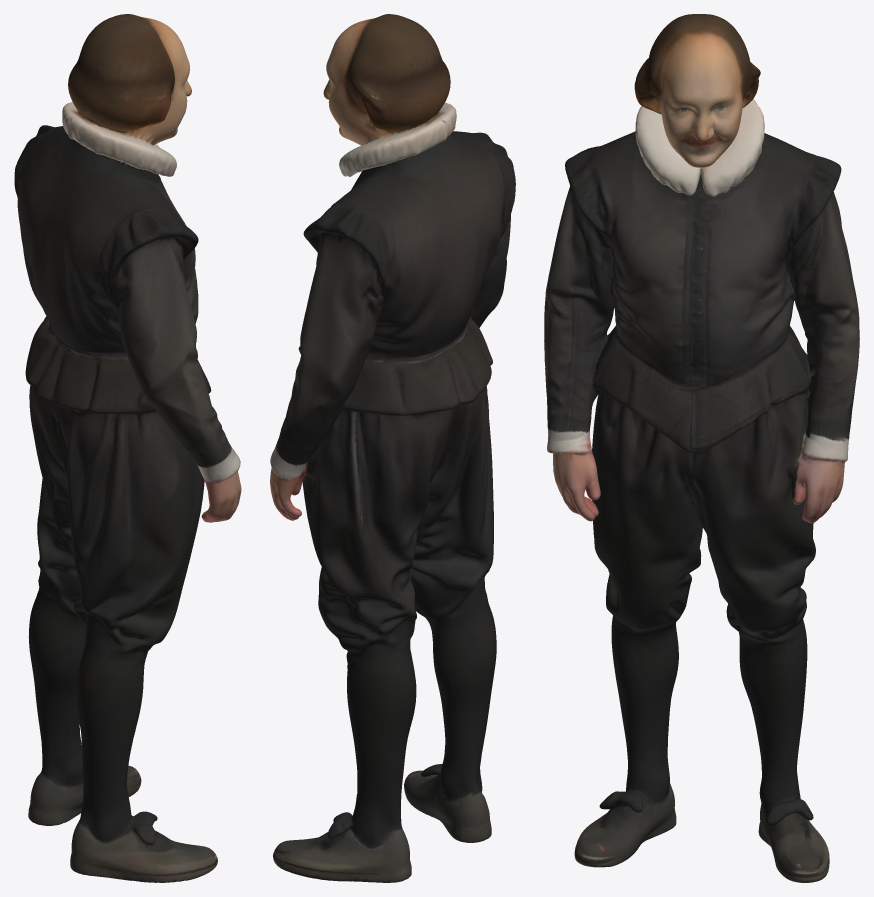
Rendered from shakespeare.glb.
The picture shows the model from 3 angles, left to right: view 1: azimuth 30°, elevation 25°; view 2: azimuth 150°, elevation 25°; view 3: azimuth 270°, elevation 25°; orthographic projection. The views are drawn at different scales.
Visible parts, largest first — view 1: tripo_node_ef2fb289-115d-418f-8ede-324c1dbad393; view 2: tripo_node_ef2fb289-115d-418f-8ede-324c1dbad393; view 3: tripo_node_ef2fb289-115d-418f-8ede-324c1dbad393.
Part boxes in pixels (x1,y1,x2,y2): tripo_node_ef2fb289-115d-418f-8ede-324c1dbad393: (14,14,241,882); tripo_node_ef2fb289-115d-418f-8ede-324c1dbad393: (270,14,515,882); tripo_node_ef2fb289-115d-418f-8ede-324c1dbad393: (544,14,859,882).
Bounding box in the file's own units: 0.2108 × 1 × 0.3423.
Materials: 1 (1 with a texture image).
